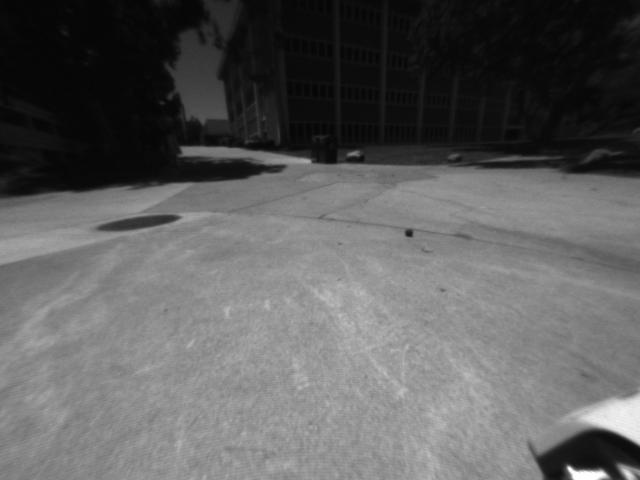dogtoy: (401, 221, 422, 242)
